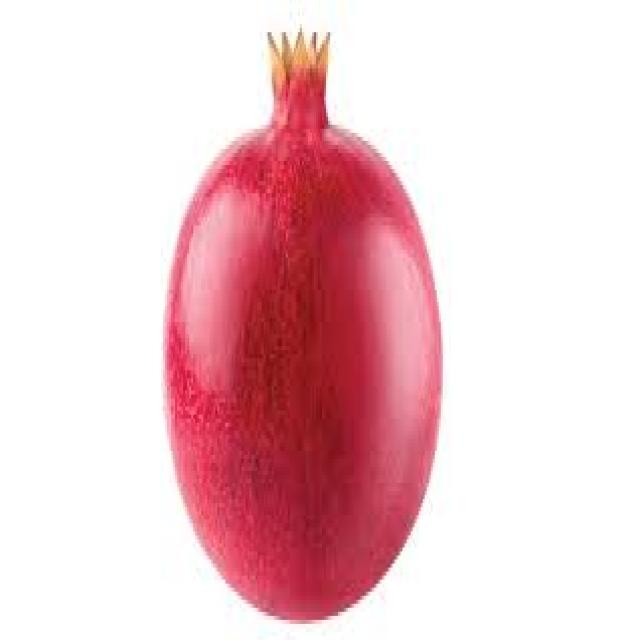Pomegranate: (176, 78, 439, 640)
